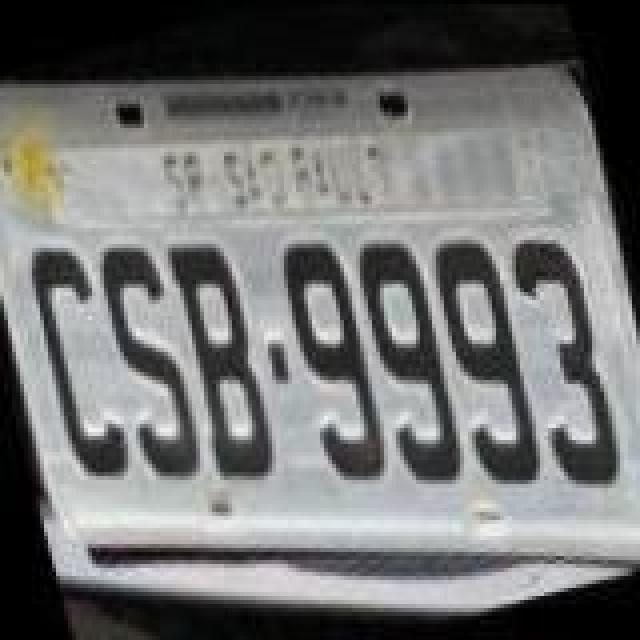3: (498, 226, 638, 502)
9: (420, 222, 556, 498), (340, 226, 476, 494), (270, 228, 402, 496)
B: (158, 228, 290, 492)
C: (18, 236, 142, 492)
S: (88, 232, 216, 492)
